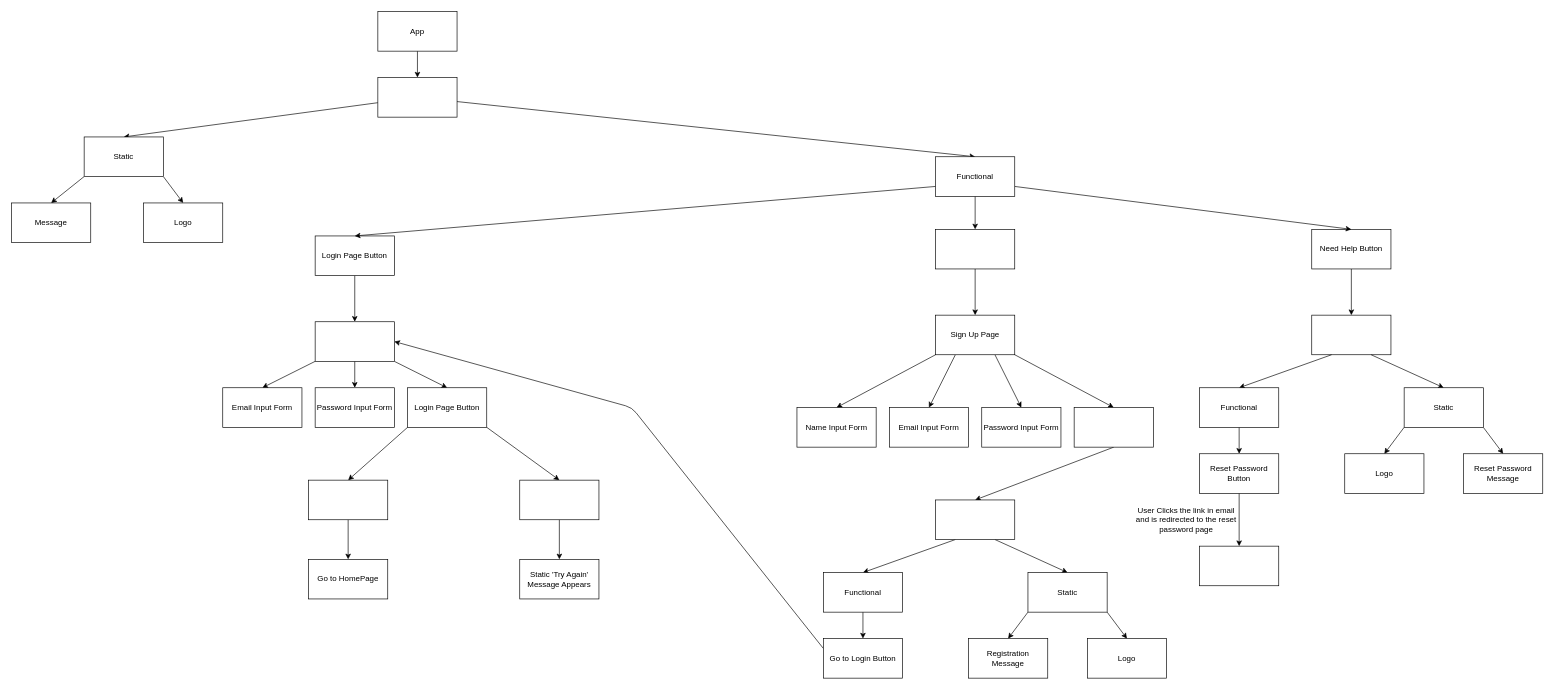
Some shapes in this 1554 by 690 pixel diagram are drawn without their labels. Here are the shapes that lost their labels. From the top down, the box of each, then its label:
(377, 77, 457, 117): Landing Page
(935, 229, 1015, 269): Sign Up Page Button
(314, 321, 394, 361): Login Page
(1311, 314, 1391, 355): Help page (Reset Password)
(1073, 407, 1153, 447): Register Button
(308, 479, 388, 520): Success
(519, 479, 599, 520): Failure
(935, 499, 1015, 540): Confirmation Page
(1199, 545, 1279, 586): Reset Password Page
